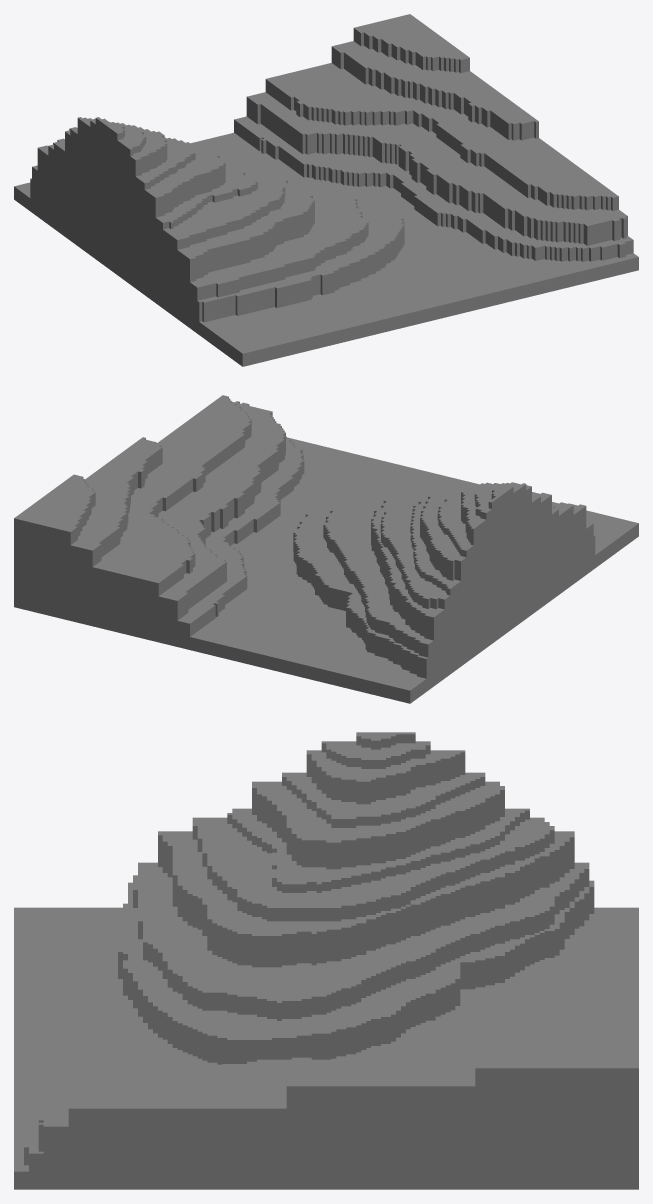
Rendered from Main Island-2.obj.
3 renders of one model, top to bottom at view 1: azimuth 30°, elevation 25°; view 2: azimuth 150°, elevation 25°; view 3: azimuth 270°, elevation 25°, orthographic. The views are drawn at different scales.
Parts seen in each view (by area): view 1: Main Island-2; view 2: Main Island-2; view 3: Main Island-2.
Part boxes in pixels (x1,y1,x2,y2): Main Island-2: [14, 14, 638, 366]; Main Island-2: [14, 395, 638, 703]; Main Island-2: [14, 732, 638, 1189].
Size of the model in its own units: 126 by 43 by 126.
1 material, 1 textured.
